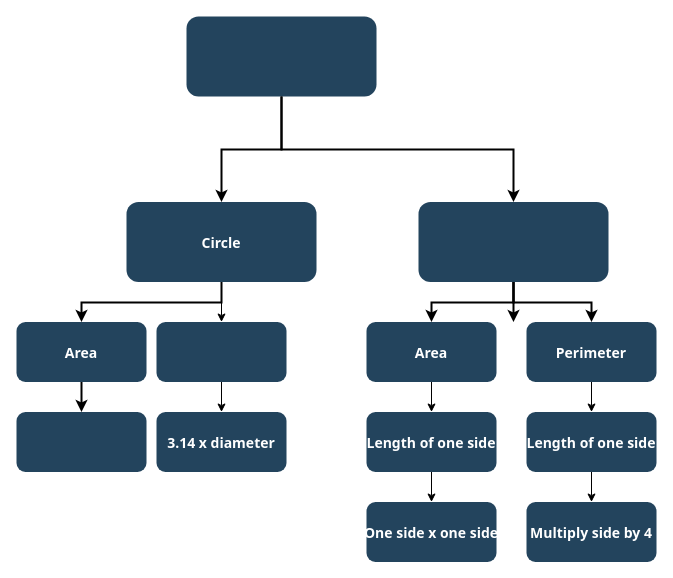
The diagram is 673 pixels wide and 578 high, and some of its shapes have lost their labels. Here are the shapes that lost their labels. From the top down, the box of each, then its label:
(186, 16, 376, 96): Shape Calculations
(418, 202, 608, 282): Square
(156, 322, 286, 382): Circumference
(16, 412, 146, 472): 3.14 x radius²
